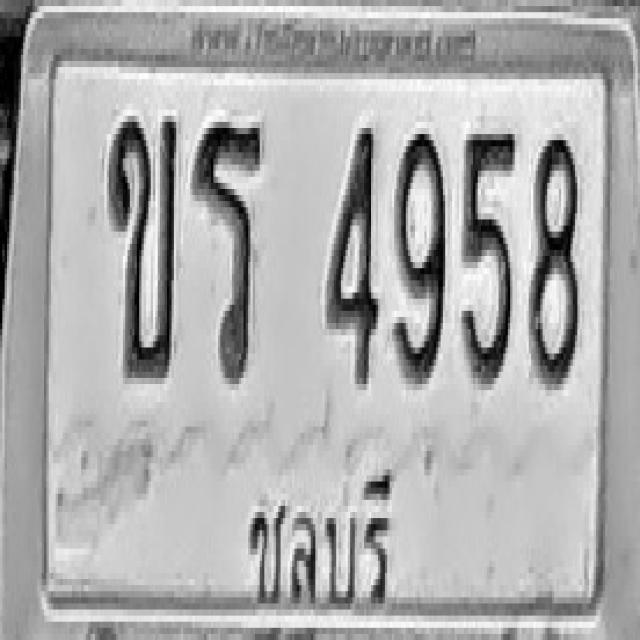11KhorKhai: (108, 110, 177, 378)
4: (325, 122, 378, 384)
44RorRuea: (192, 116, 264, 384)
5: (460, 128, 516, 384)
8: (529, 131, 577, 387)
9: (393, 128, 444, 384)
Chonburi: (237, 432, 406, 636)
